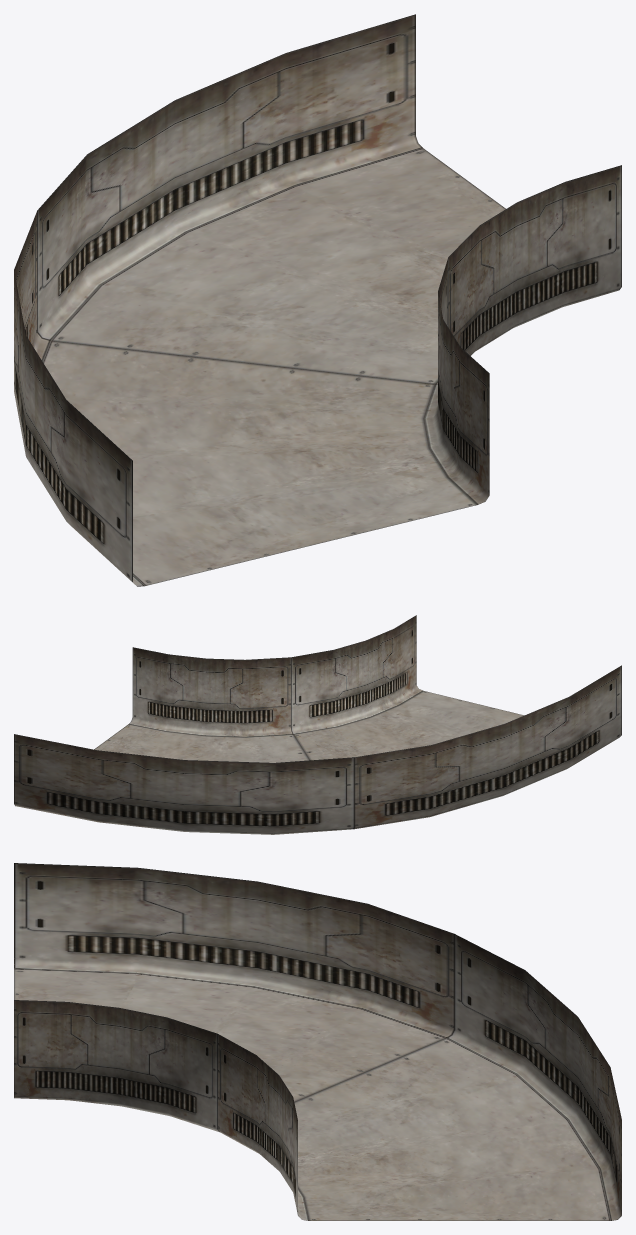
Rendered from lab_ceiling_box_turn.dae.
The picture shows the model from 3 angles, top to bottom: view 1: azimuth 30°, elevation 25°; view 2: azimuth 150°, elevation 25°; view 3: azimuth 270°, elevation 25°; orthographic projection. The views are drawn at different scales.
Visible parts, largest first — view 1: lab_ceiling_box_turn; view 2: lab_ceiling_box_turn; view 3: lab_ceiling_box_turn.
Part boxes in pixels (x1=…): lab_ceiling_box_turn: x1=14, y1=14, x2=621, y2=586; lab_ceiling_box_turn: x1=14, y1=615, x2=621, y2=834; lab_ceiling_box_turn: x1=14, y1=863, x2=621, y2=1220.
Bounding box in the file's own units: 4.09 × 0.75 × 4.09.
